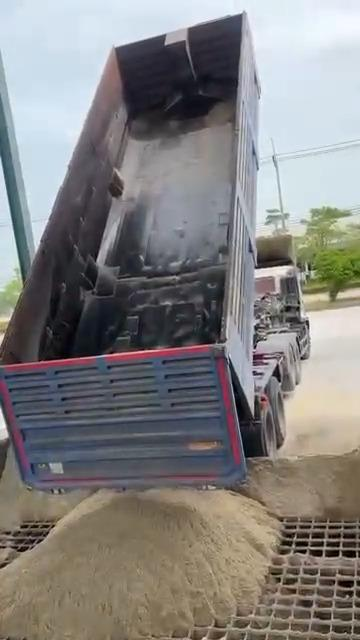sand: (0, 490, 278, 639), (241, 449, 359, 518), (0, 447, 88, 530), (275, 553, 359, 570), (0, 547, 18, 567)
